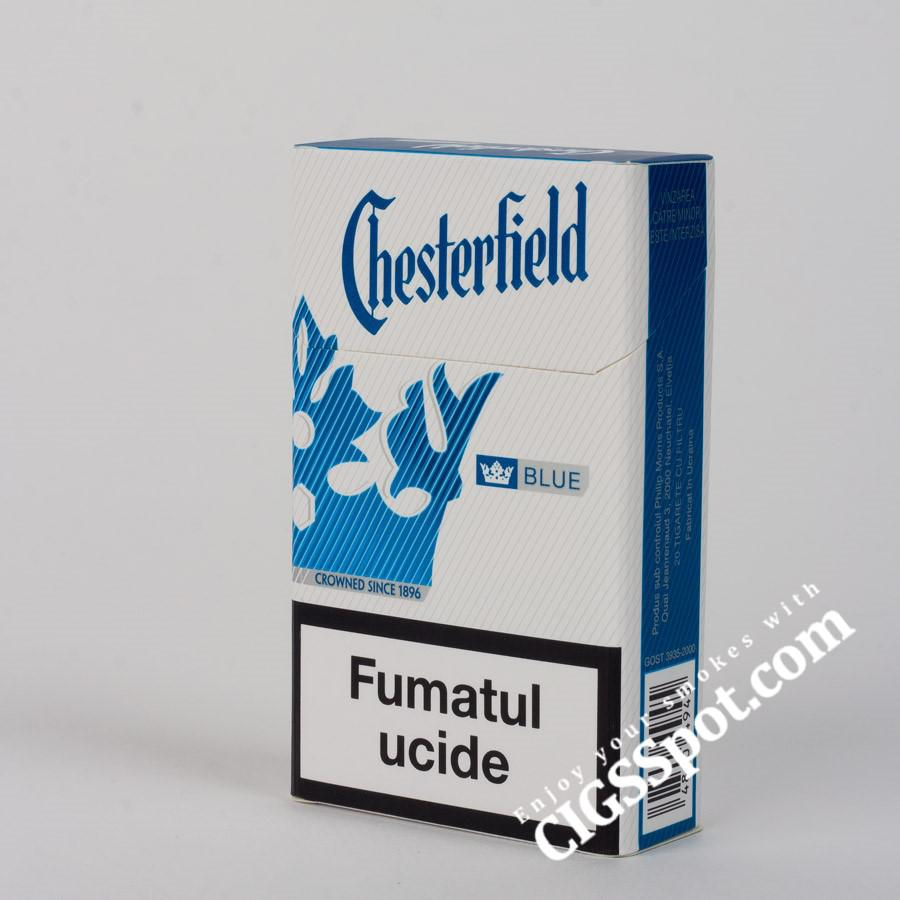chesterfield_blue: (294, 163, 636, 801)
